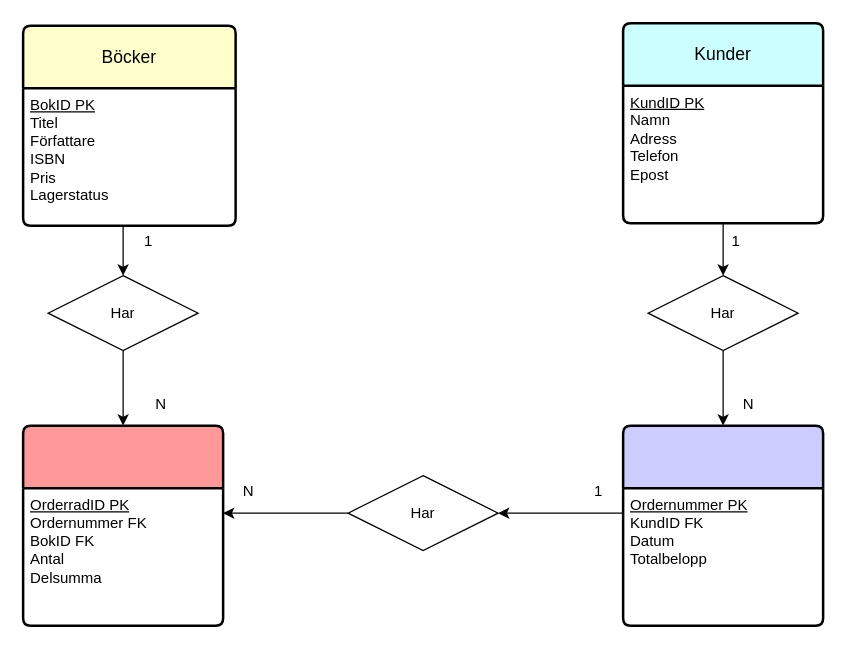
This 845x648 diagram has some shape labels left out. Each missing label, with the box of its shape:
Beställningar: (621, 424, 824, 626)
Orderrader: (21, 424, 224, 626)
